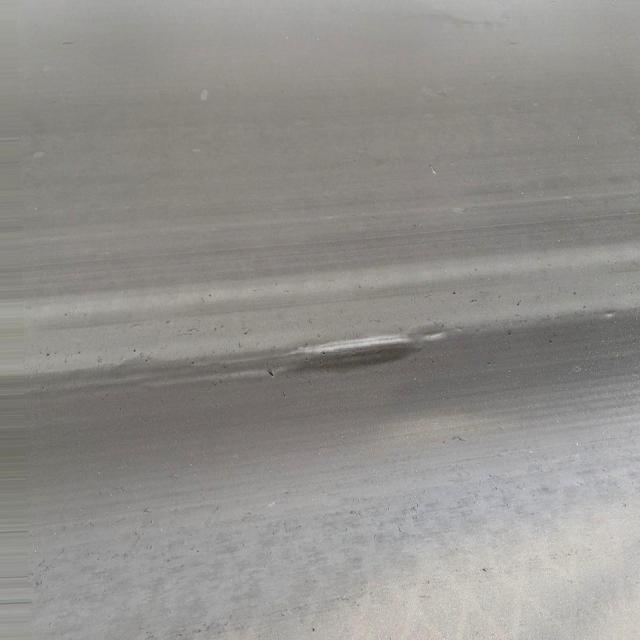impact damage: (295, 328, 422, 377)
